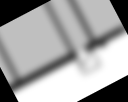door: (76, 50, 94, 68)
wall: (8, 48, 80, 92), (38, 1, 77, 59), (62, 0, 99, 46), (80, 23, 126, 55), (0, 28, 25, 84)
